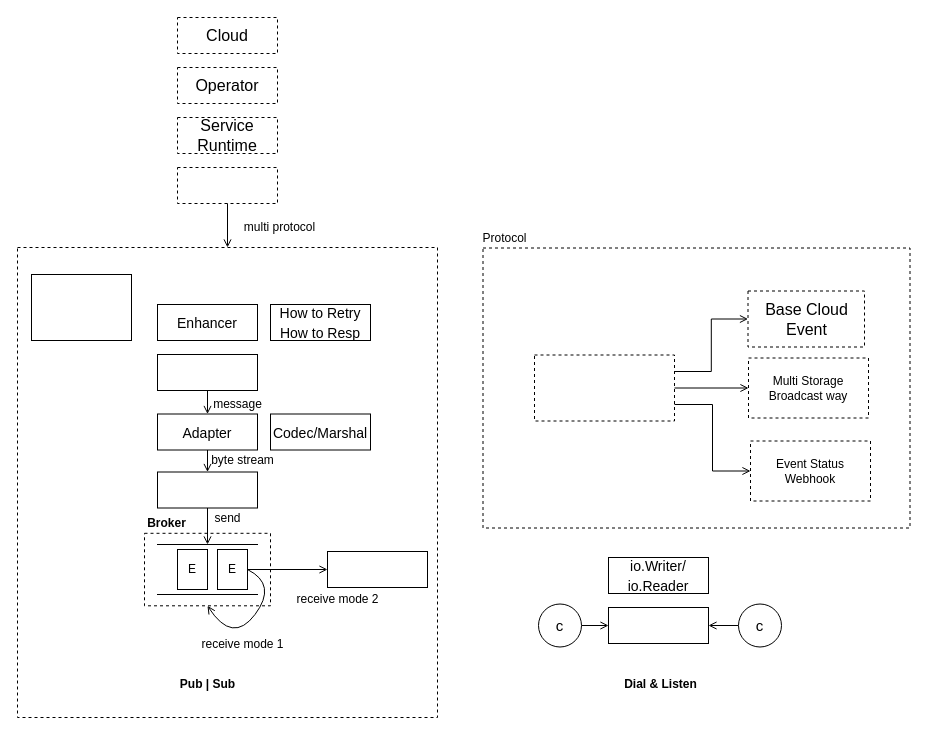
The diagram is 928 pixels wide and 735 high, and some of its shapes have lost their labels. The shapes that lost their labels are listed below. From the top down, each one's box as (x1, y1, x2, y2) in pixels, then its label:
(176, 166, 278, 204): SideCar
(30, 274, 132, 340): Protocol = Enhancer + Enhancer
(156, 354, 258, 390): Puber/Suber
(534, 354, 674, 421): Distribute Storage Event
(156, 471, 258, 508): Driver
(326, 550, 428, 588): Webhook
(608, 606, 708, 644): Conn/Stream
